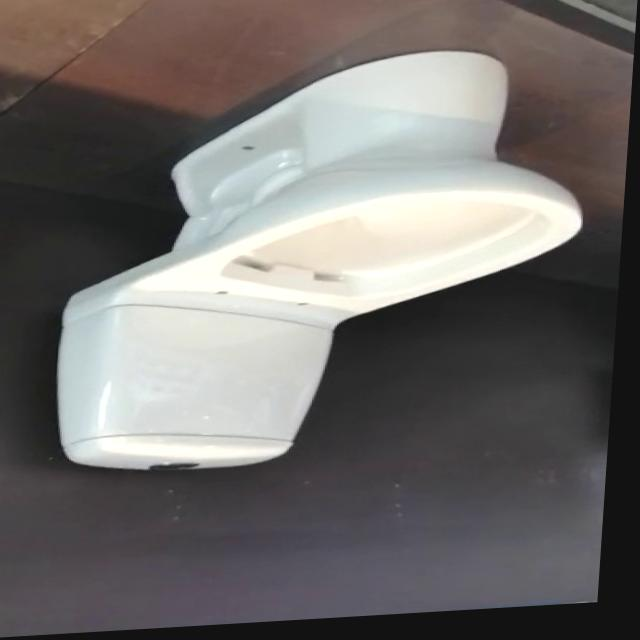toilet: (55, 49, 596, 481)
